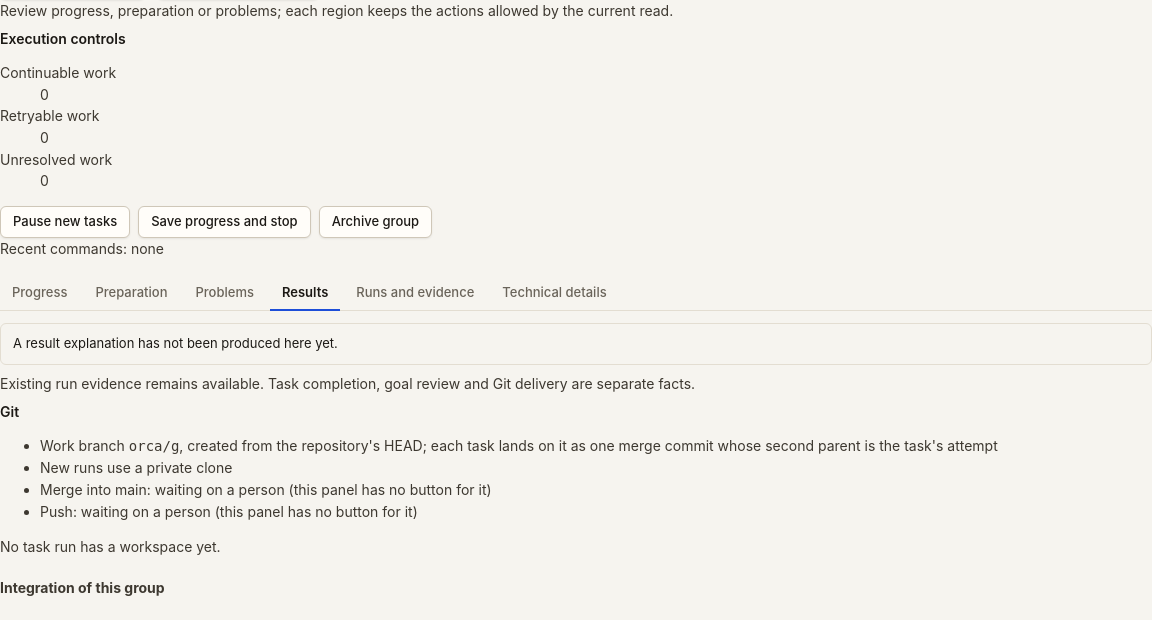
the loop plan card's git line (spec D7) › says clone when the repository's mode is clone
Click the tab "Progress" at [40, 294], box [0,276,80,311]
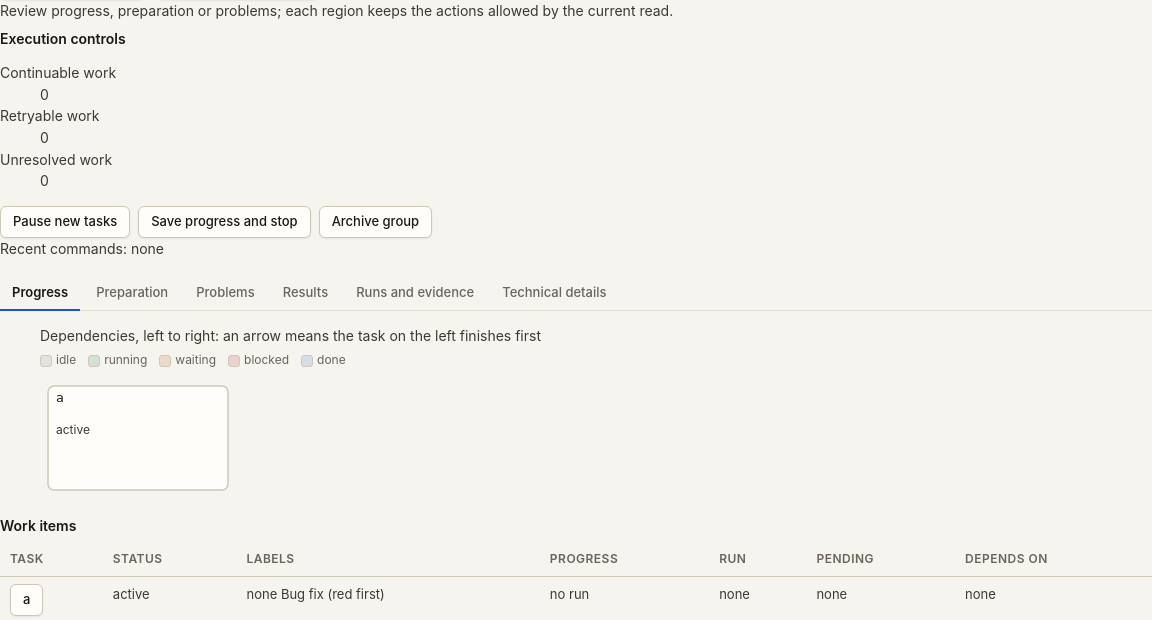
Click the button "a" at [27, 600], box [10,584,43,616]
(page scrolled)
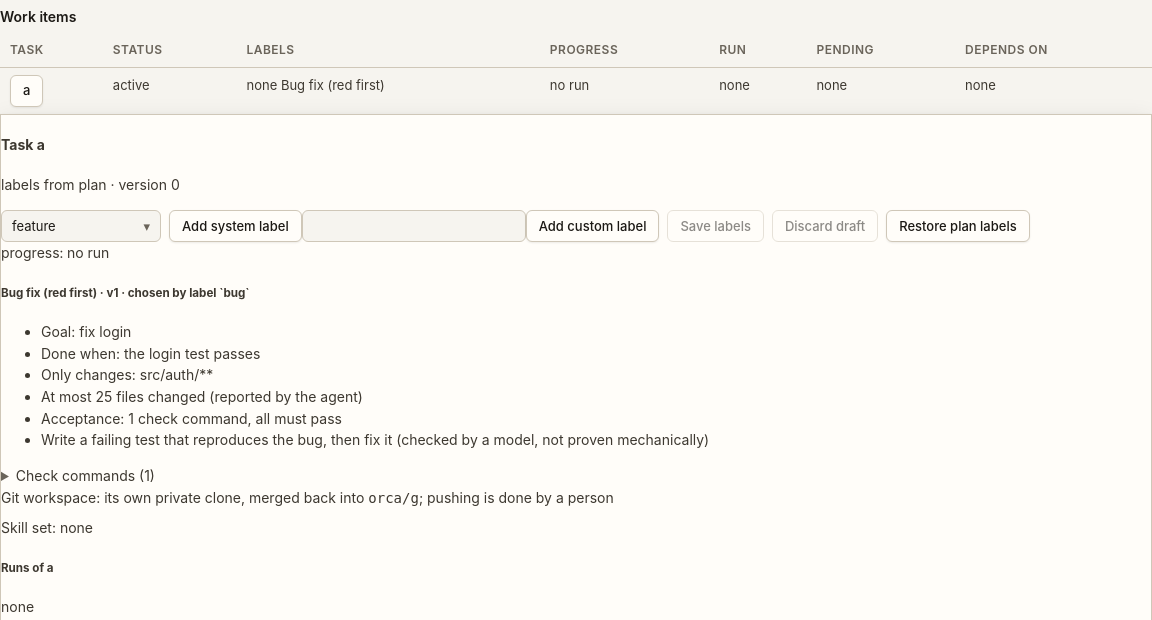
Expected: the element named "Plan a" shows "Git workspace: its own private clone, merged back into orca/g; pushing is done by a person", [1,286,709,536]
